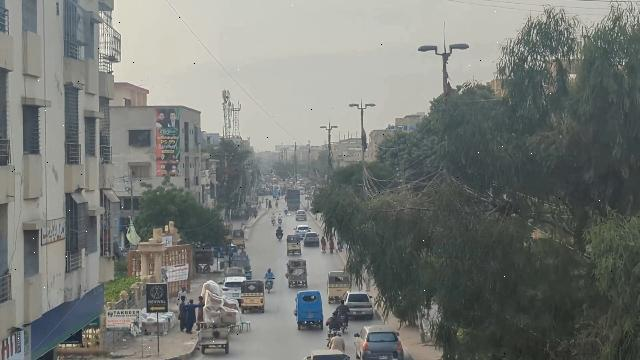Bike: (265, 277, 274, 295), (340, 317, 348, 333)
Car: (353, 325, 406, 360), (343, 290, 375, 320), (220, 275, 242, 300)
Cart: (196, 325, 233, 355)
Person: (185, 299, 197, 333), (331, 330, 345, 352), (196, 295, 205, 329), (178, 296, 186, 334), (336, 299, 349, 317), (177, 286, 188, 305), (264, 267, 275, 280)
Rickshaw: (293, 289, 326, 331), (326, 270, 352, 303), (239, 280, 265, 313), (285, 259, 309, 288)
